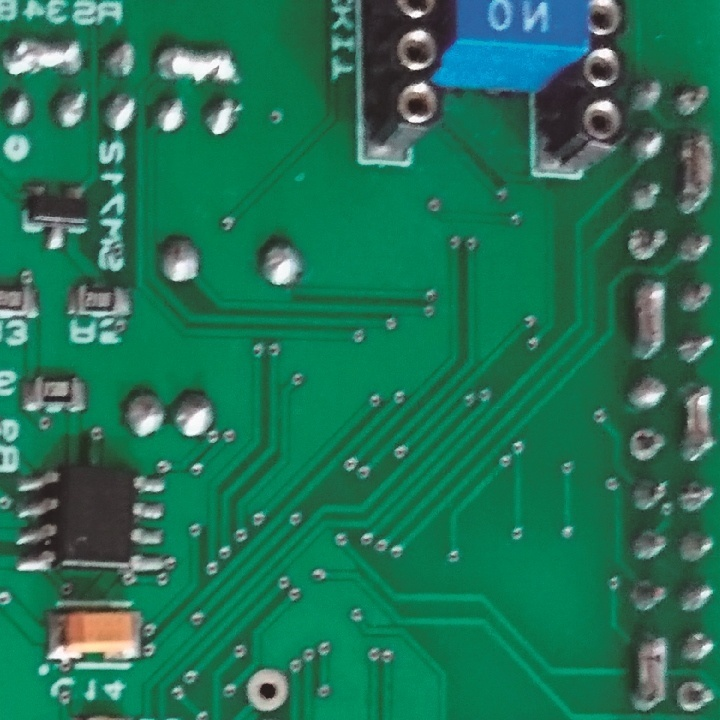F: (247, 665, 288, 716), (625, 220, 668, 266), (676, 675, 716, 717), (628, 424, 666, 463)
P: (672, 123, 718, 215), (1, 38, 90, 80), (155, 43, 241, 86), (632, 623, 670, 715), (630, 274, 668, 363), (678, 377, 715, 464)
